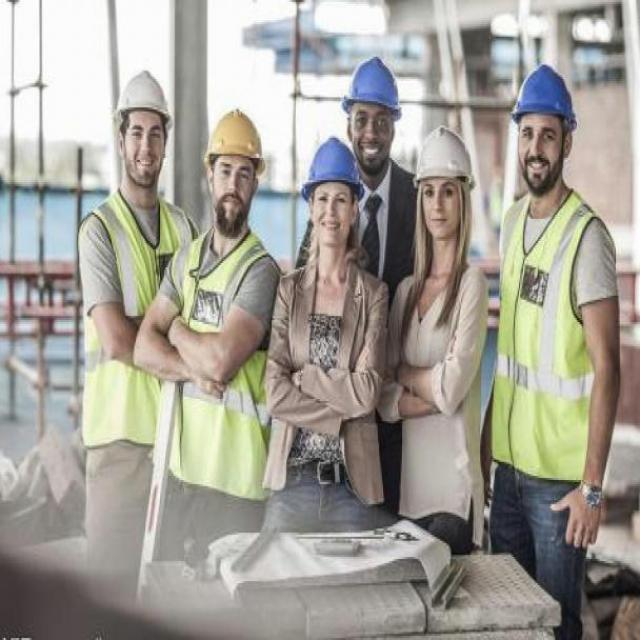helmet: (505, 51, 577, 203), (196, 97, 265, 243), (113, 55, 176, 197), (292, 132, 363, 249), (415, 133, 471, 254), (348, 51, 400, 162)
vest: (486, 180, 606, 502), (161, 219, 262, 482), (69, 176, 163, 444)
